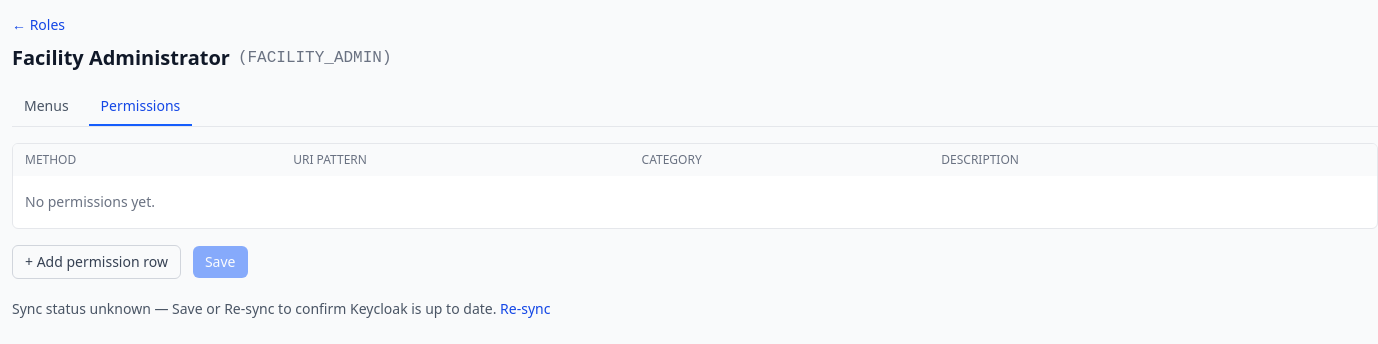
RolePermissionsTab › can Re-sync from the unknown state too
This screenshot has width=1378, height=344.
Check: the text "Sync status unknown" is shown, box [12,299,496,318]
Step 1. Click the button "Re-sync" → [525, 309], box [500,299,550,319]
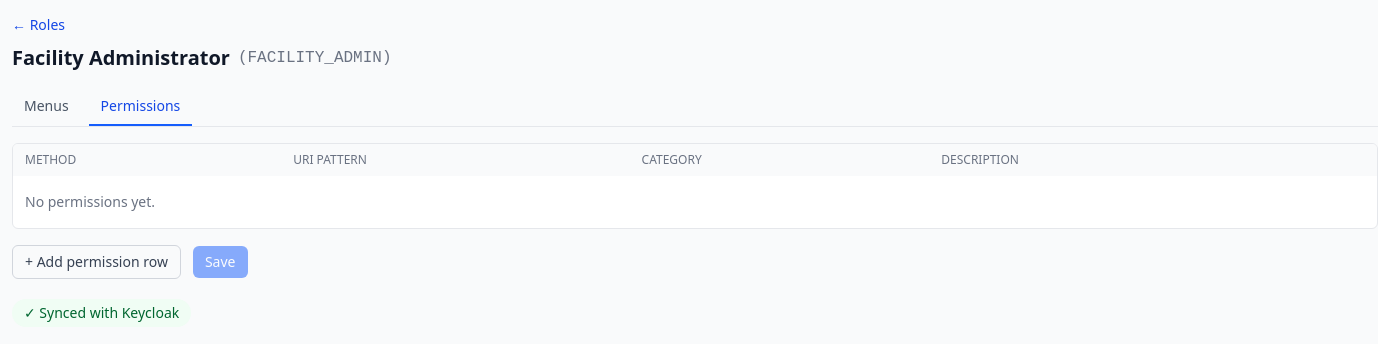
Check: the text "✓ Synced with Keycloak" is shown, box [12,299,191,327]
